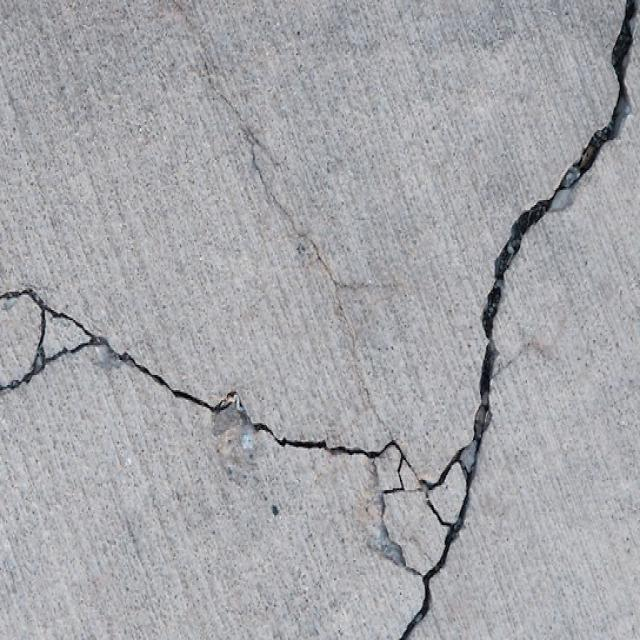Diagonal: (127, 349, 385, 463)
Longitudinal: (472, 194, 551, 434), (561, 0, 640, 156)
Radial: (378, 552, 466, 640)
Turtle-shell patterned: (0, 283, 116, 385), (392, 431, 486, 545), (555, 164, 588, 192)
